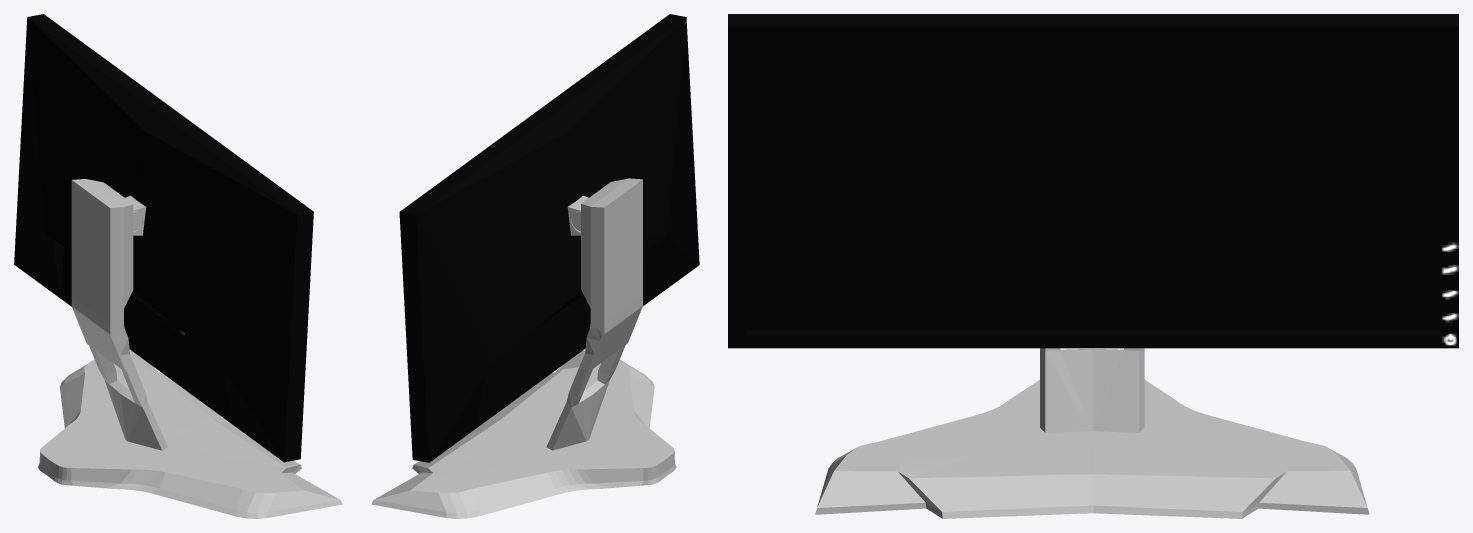
File: monitor.fbx
The picture shows the model from 3 angles, left to right: view 1: azimuth 30°, elevation 25°; view 2: azimuth 150°, elevation 25°; view 3: azimuth 270°, elevation 25°; orthographic projection. The views are drawn at different scales.
Parts seen in each view (by area): view 1: Screen, Stand2, Stand1, Clamp; view 2: Screen, Stand2, Stand1, Clamp; view 3: Screen, Stand2, Stand1.
Part boxes in pixels (left/top/right/bottom): Screen: left=14, top=14, right=313, bottom=462; Stand2: left=38, top=351, right=342, bottom=518; Stand1: left=71, top=179, right=167, bottom=450; Clamp: left=125, top=195, right=146, bottom=235; Screen: left=399, top=14, right=699, bottom=462; Stand2: left=371, top=350, right=676, bottom=518; Stand1: left=546, top=178, right=642, bottom=450; Clamp: left=567, top=195, right=588, bottom=235; Screen: left=728, top=14, right=1458, bottom=348; Stand2: left=815, top=380, right=1369, bottom=518; Stand1: left=1040, top=348, right=1144, bottom=432.
Bounding box in the file's own units: 1.7 × 2.71 × 4.
